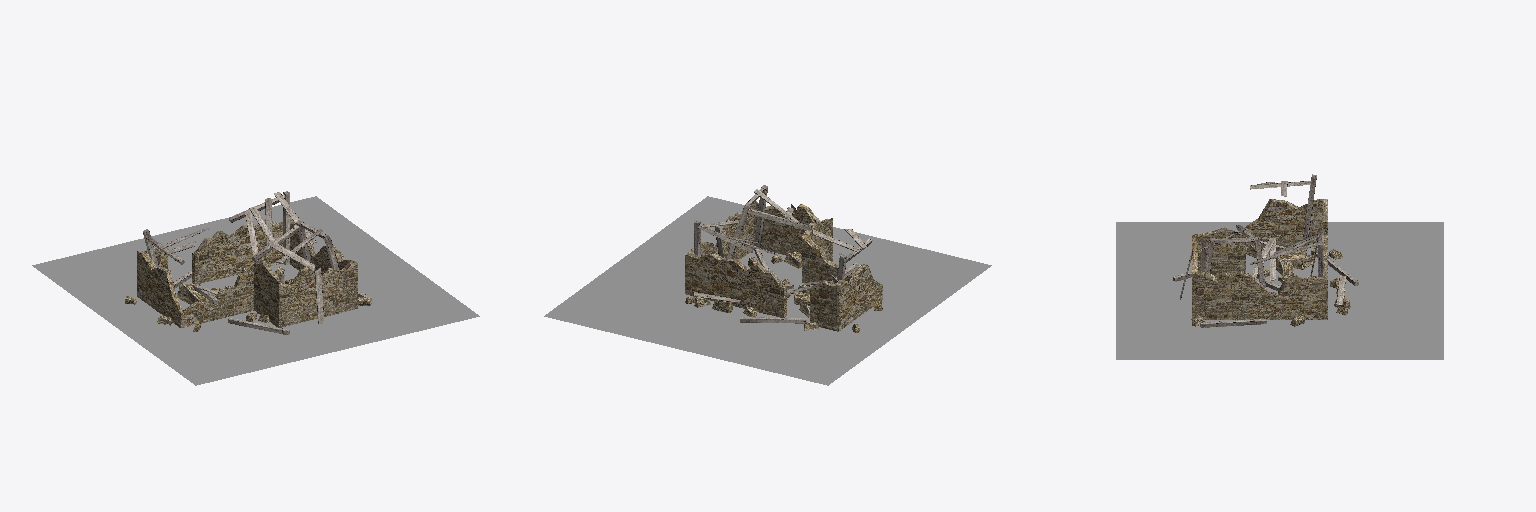
The picture shows the model from 3 angles: view 1: azimuth 30°, elevation 25°; view 2: azimuth 150°, elevation 25°; view 3: azimuth 270°, elevation 25°; orthographic projection.
Visible parts, largest first — view 1: Plane_Plane.003, Cube_Cube.003, Cube.028_Cube.005; view 2: Plane_Plane.003, Cube_Cube.003, Cube.028_Cube.005; view 3: Plane_Plane.003, Cube_Cube.003, Cube.028_Cube.005.
Boxes of the visible parts, <box> form: Plane_Plane.003: <box>32,196,479,385</box>; Cube_Cube.003: <box>125,219,371,331</box>; Cube.028_Cube.005: <box>143,191,371,334</box>; Plane_Plane.003: <box>544,196,991,385</box>; Cube_Cube.003: <box>685,201,882,332</box>; Cube.028_Cube.005: <box>693,185,872,323</box>; Plane_Plane.003: <box>1116,222,1443,359</box>; Cube_Cube.003: <box>1191,199,1350,326</box>; Cube.028_Cube.005: <box>1173,174,1358,327</box>.
Bounding box in the file's own units: 7.48 × 1.94 × 7.48.
3 materials, 3 textured.